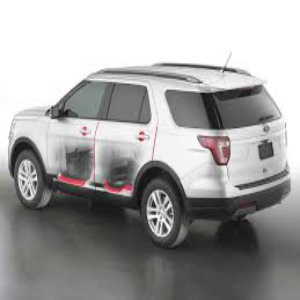door_scratch: (50, 137, 140, 197)
